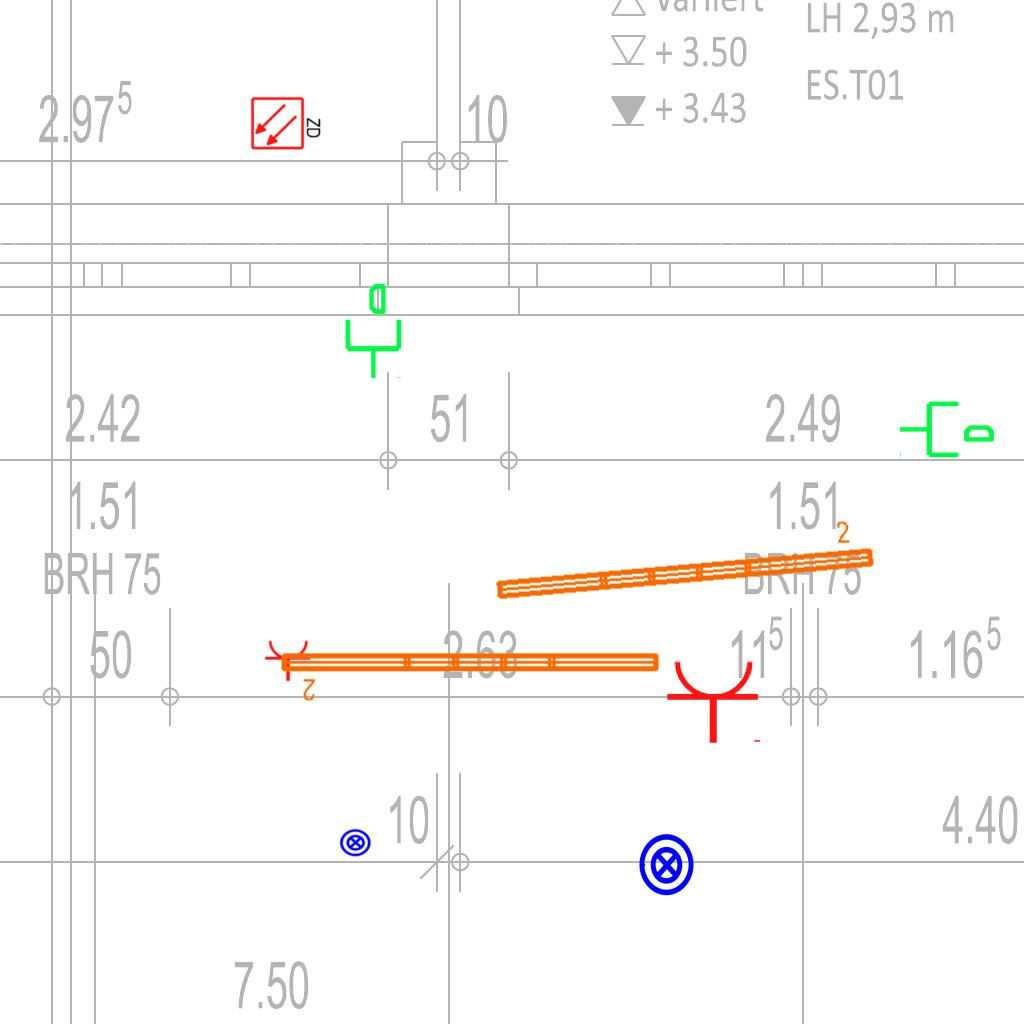Ambulanz_Pendelleuchte_LED: (488, 516, 879, 606), (277, 647, 664, 703)
Datenanschluss_einfach: (897, 393, 997, 462), (337, 281, 406, 381)
Schukosteckdose_einfach: (665, 658, 765, 745), (264, 639, 314, 682)
Taster_beleuchtet: (634, 832, 700, 898), (339, 826, 372, 859)
ZD_Melder_in_Zwischendecke_mit_Revisionsoeffnung_mind_40_x_40_cm: (250, 94, 324, 151)
